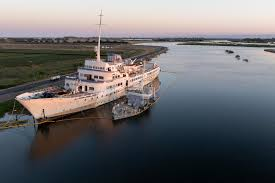boat: (16, 10, 161, 123)
